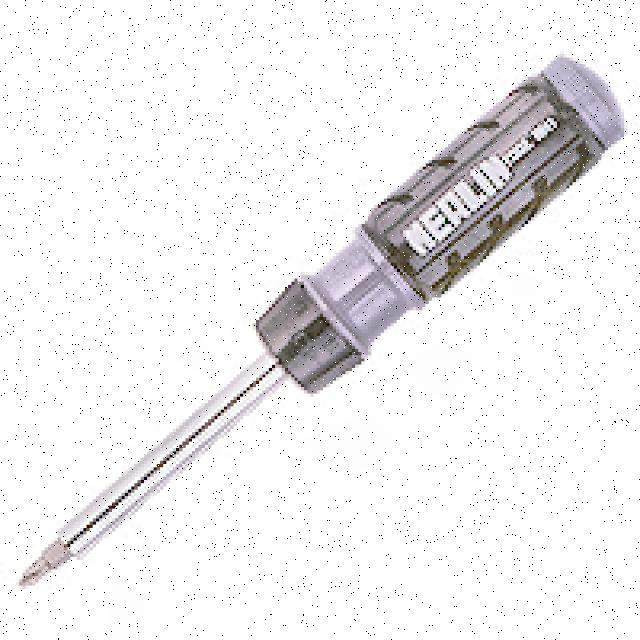screwdriver: (20, 55, 630, 588)
